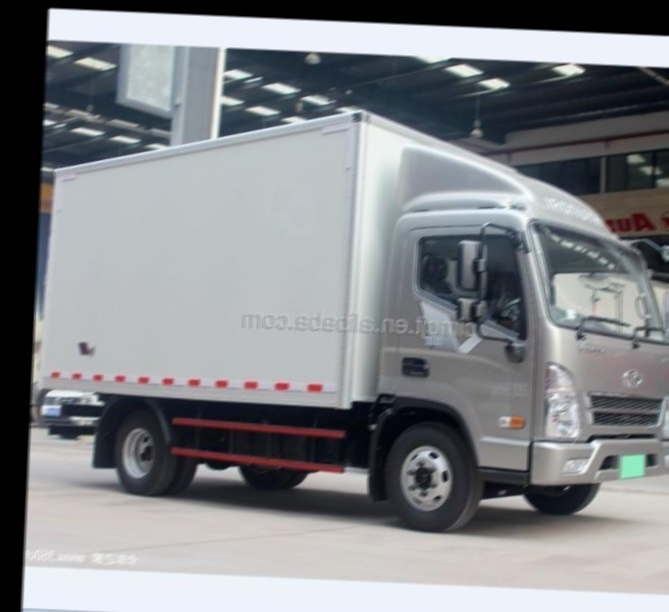truck: (27, 82, 669, 541)
